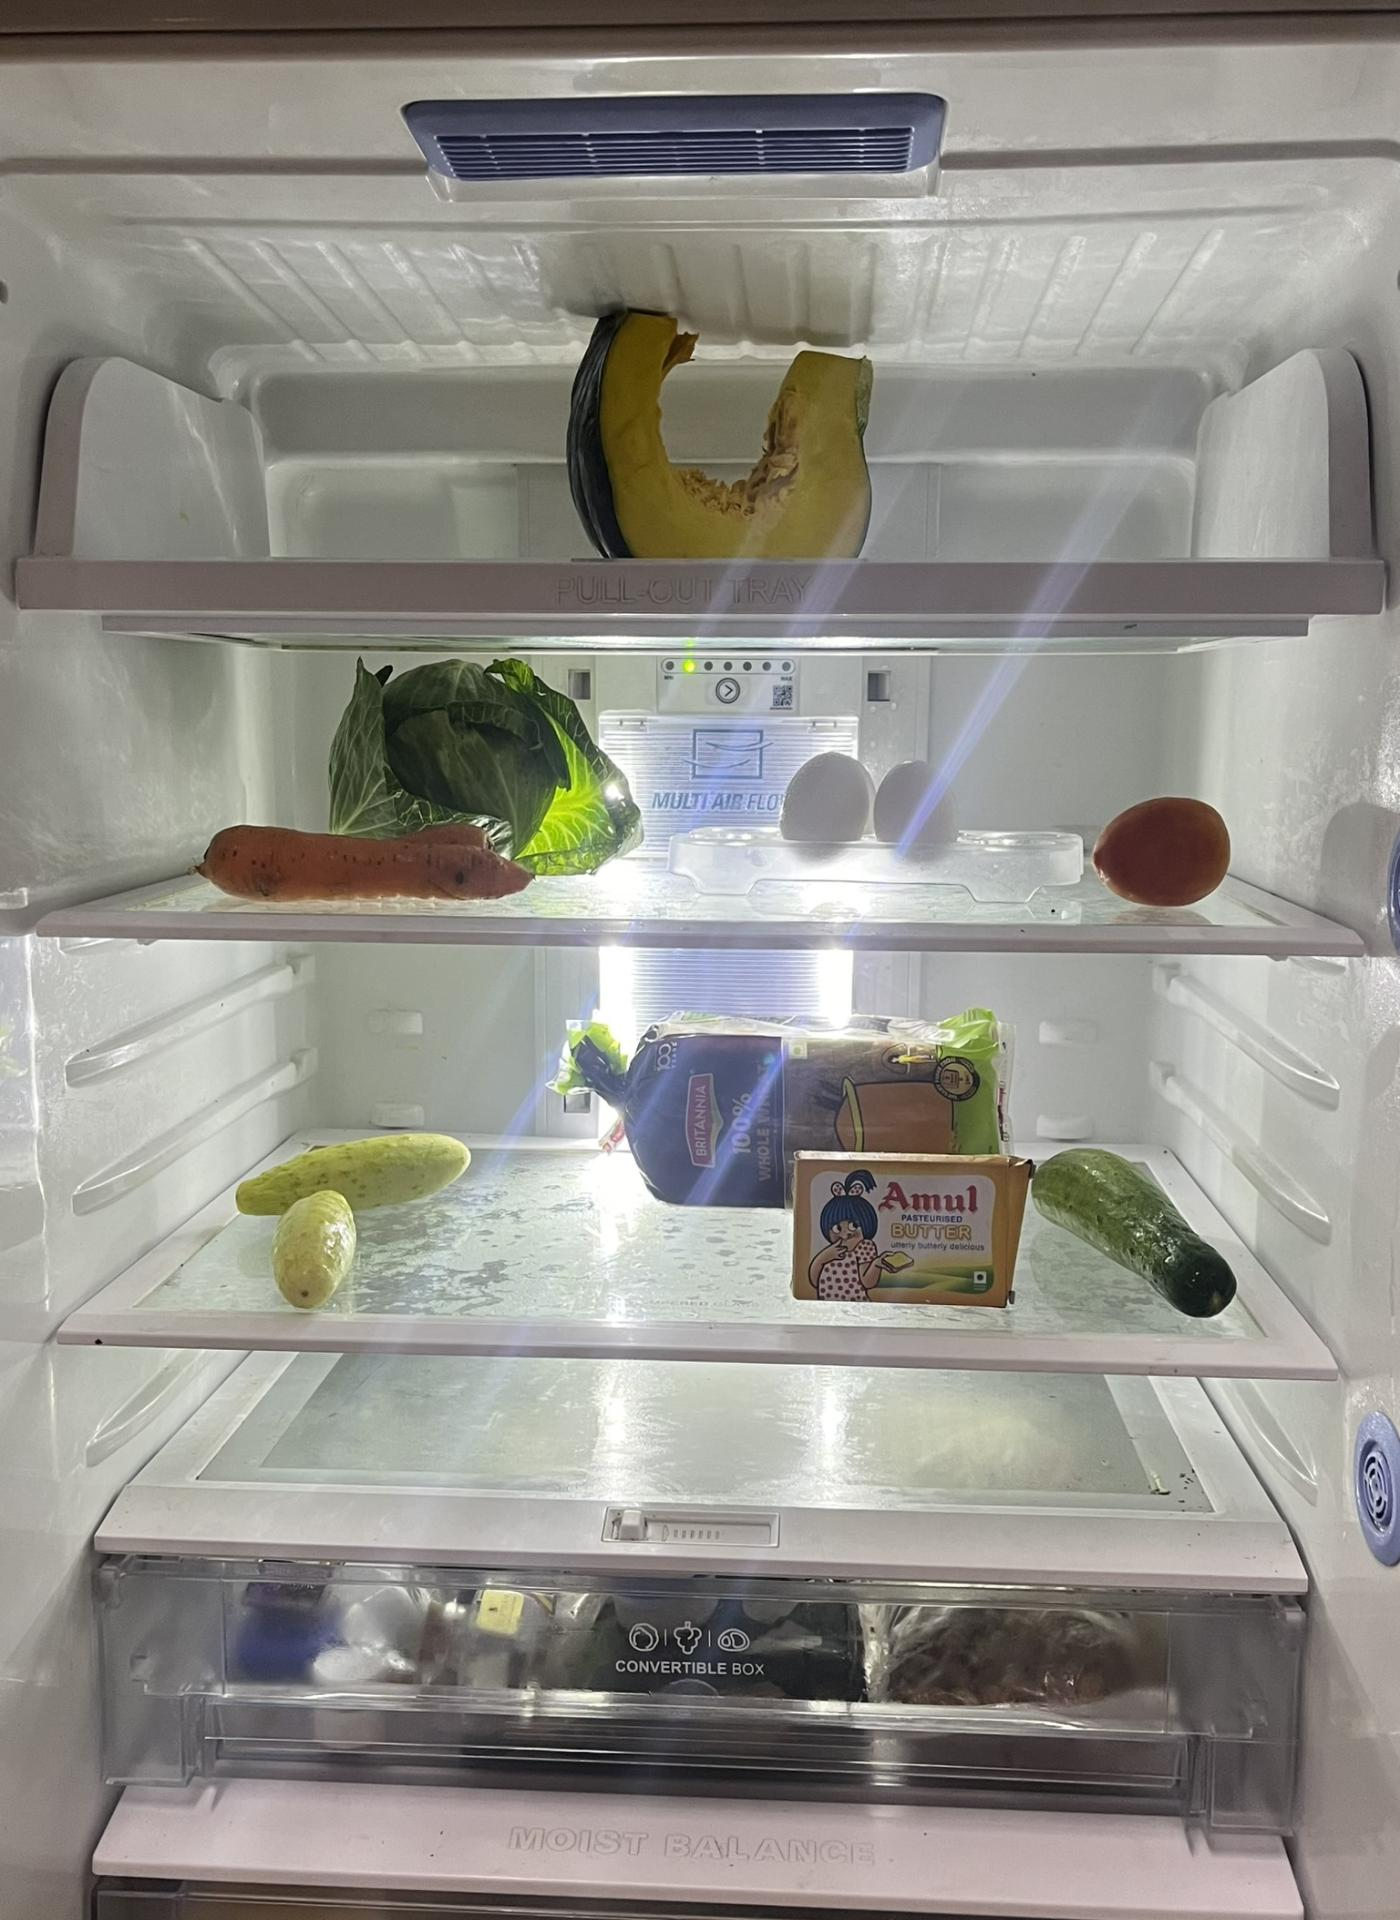bread: (587, 1003, 1021, 1201)
butter: (786, 1149, 1036, 1313)
cabbage: (327, 657, 625, 866)
carrots: (200, 812, 543, 902)
cucumber: (1035, 1146, 1240, 1328), (227, 1120, 491, 1212), (270, 1196, 367, 1304)
egg: (775, 750, 959, 863)
pumpkin: (568, 291, 880, 559)
tomato: (1091, 789, 1242, 909)
